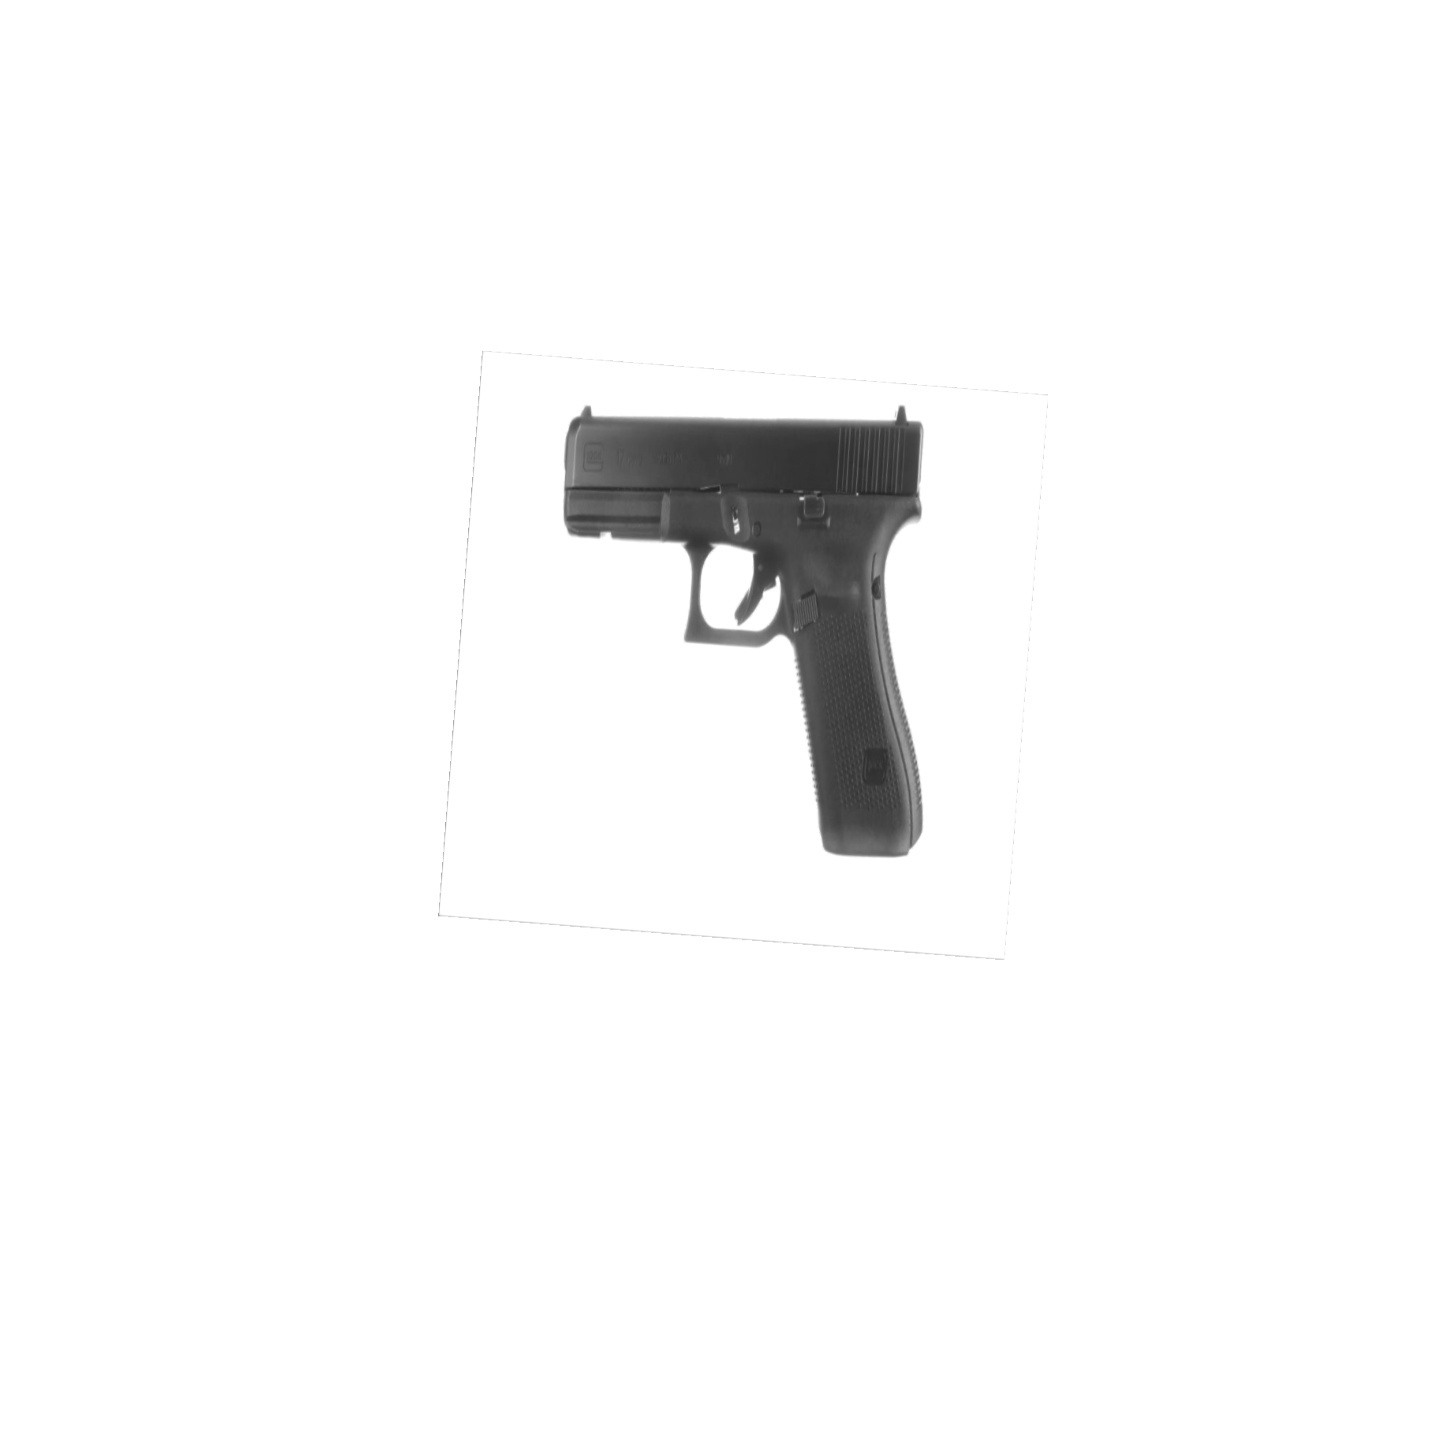gun: (533, 396, 949, 860)
